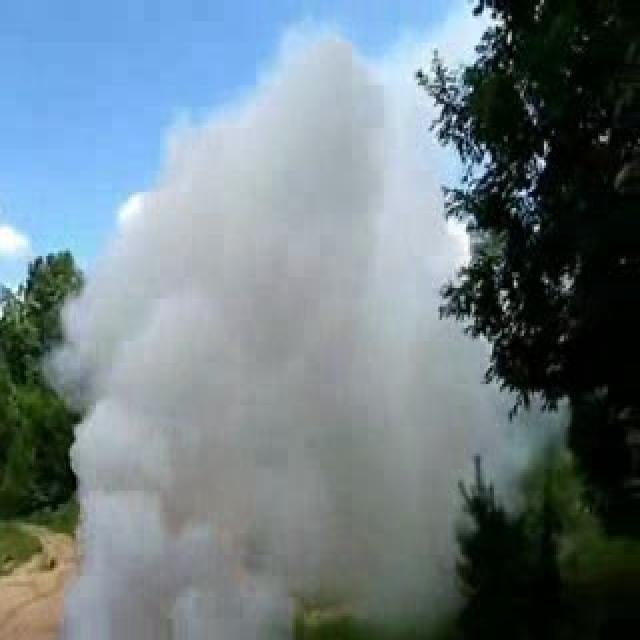Smoke: (39, 0, 572, 640)
